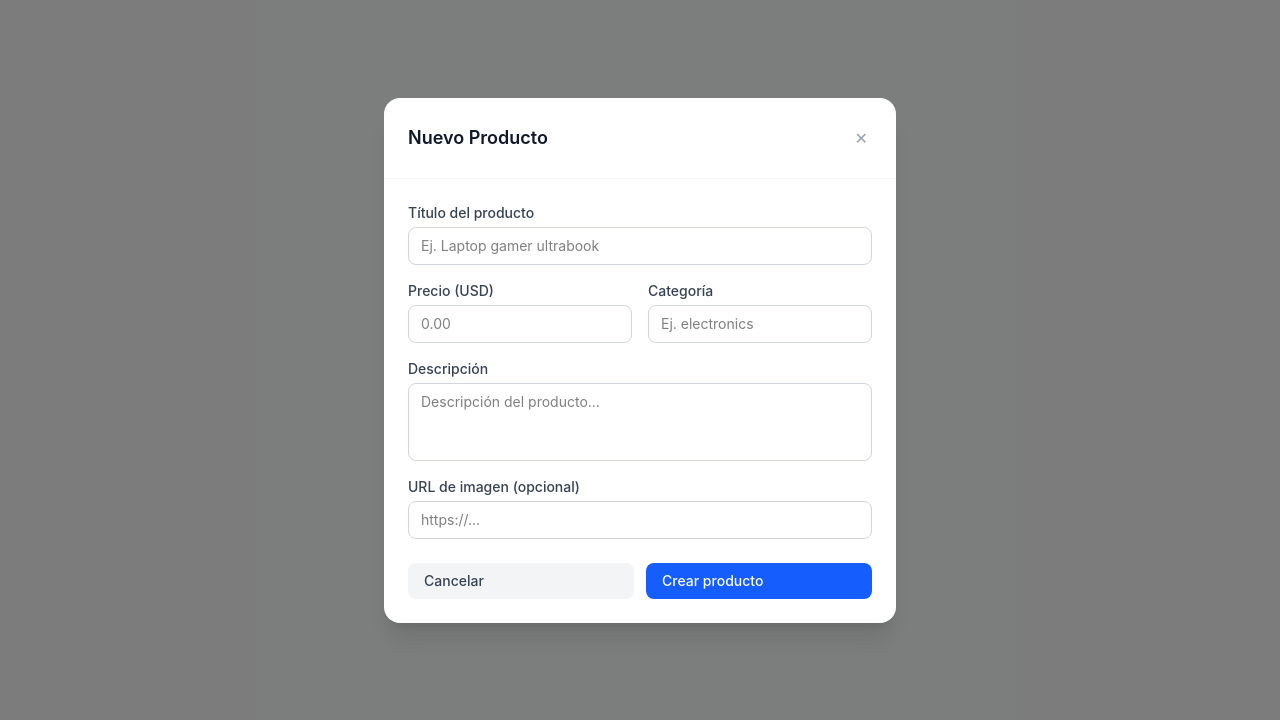
ProductForm › no envía precios negativos o cero
Type "-5" into the number field labelled "Precio (USD)". click: (520, 324)
box: [408, 304, 632, 342]
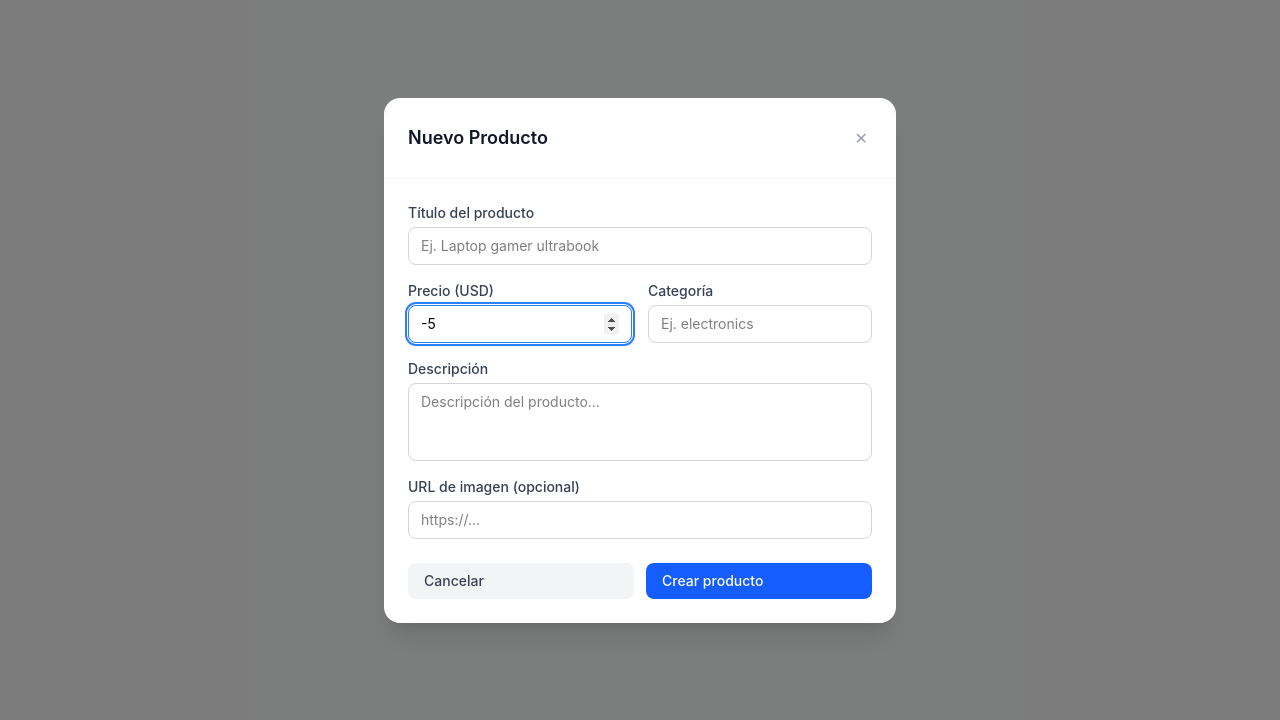
Click the button "Crear producto". click: (759, 580)
box: [646, 562, 872, 598]
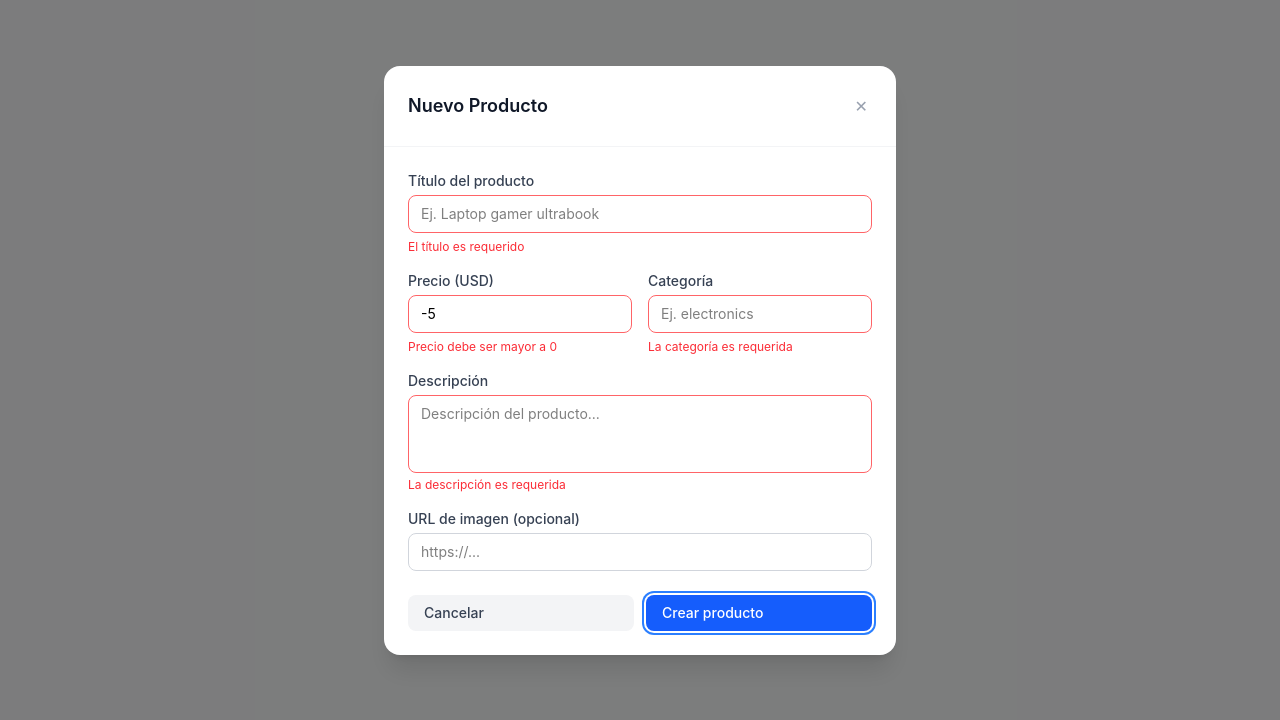
Check: the text "Precio debe ser mayor a 0" is shown, box [408, 338, 557, 354]
